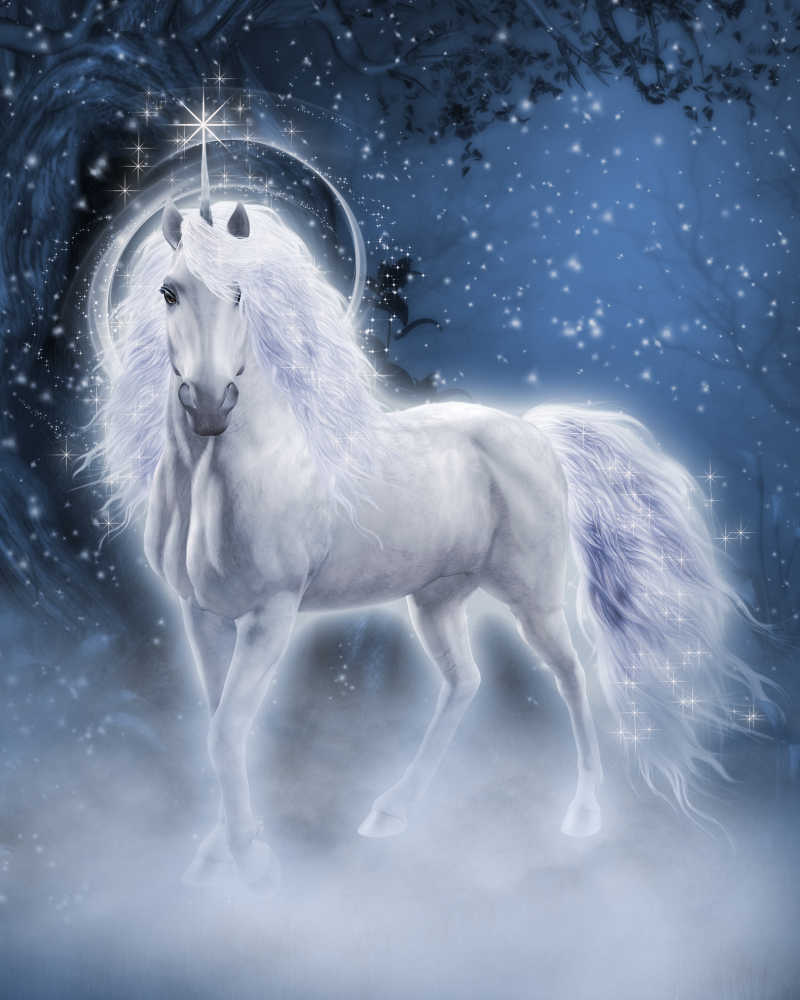background: (49, 74, 800, 894)
